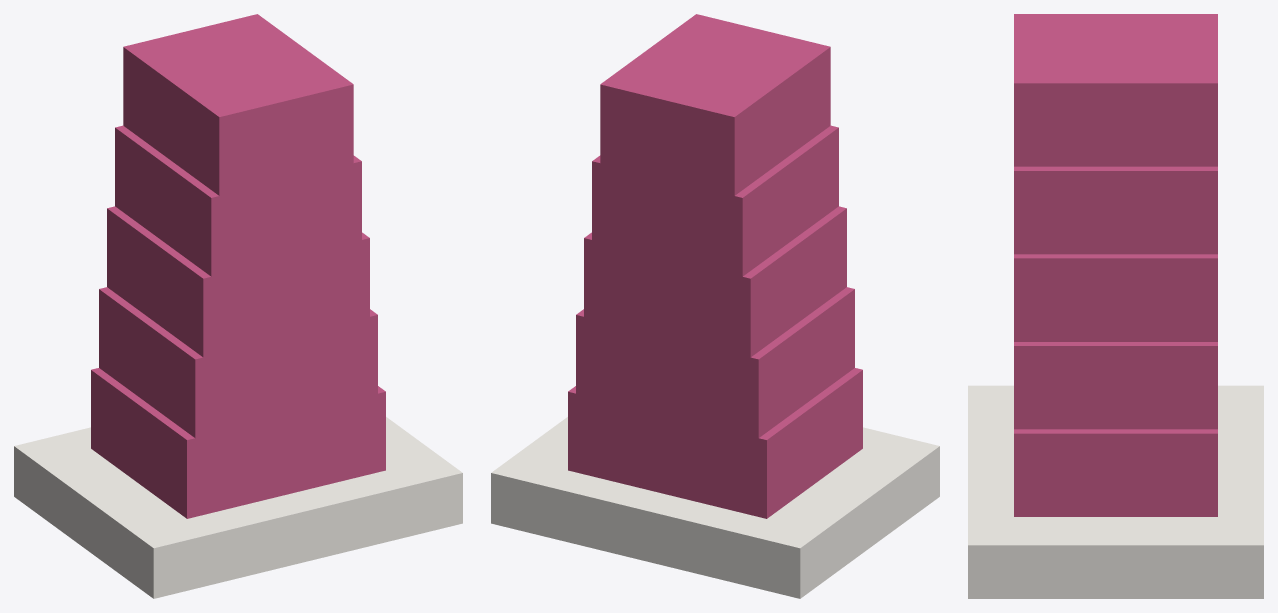
File: record_player-lv5.glb
3 views of the same model, side by side, from view 1: azimuth 30°, elevation 25°; view 2: azimuth 150°, elevation 25°; view 3: azimuth 270°, elevation 25° (orthographic). The views are drawn at different scales.
Visible parts, largest first — view 1: Base, Level5, Level1, Level2, Level3, Level4; view 2: Base, Level5, Level1, Level2, Level3, Level4; view 3: Base, Level5, Level4, Level1, Level2, Level3.
Part boxes in pixels (x1,y1,x2,y2): Base: [14, 417, 462, 598]; Level5: [123, 14, 353, 195]; Level1: [91, 368, 385, 518]; Level2: [99, 287, 377, 438]; Level3: [107, 206, 369, 357]; Level4: [115, 125, 361, 276]; Base: [491, 417, 939, 598]; Level5: [600, 14, 830, 195]; Level1: [568, 368, 862, 518]; Level2: [576, 287, 854, 438]; Level3: [584, 206, 846, 357]; Level4: [592, 125, 838, 276]; Base: [968, 385, 1263, 598]; Level5: [1014, 14, 1217, 166]; Level4: [1014, 166, 1217, 254]; Level1: [1014, 429, 1217, 516]; Level2: [1014, 342, 1217, 429]; Level3: [1014, 254, 1217, 341].
Bounding box in the file's own units: 1.15 × 1.58 × 0.9.
